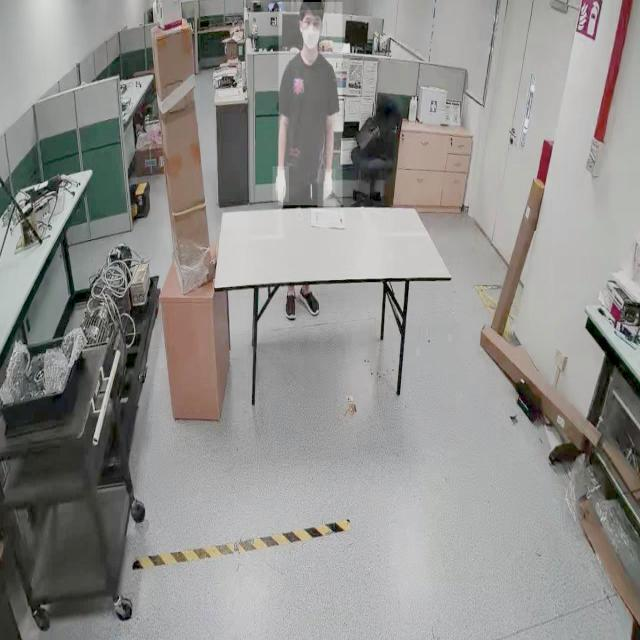face_mask: (302, 13, 322, 46)
hand_glove: (317, 169, 335, 209), (272, 166, 289, 203)
head_nohelmet: (300, 0, 325, 11)
person: (278, 2, 342, 206)
shoes: (282, 282, 300, 324), (300, 282, 320, 317)
